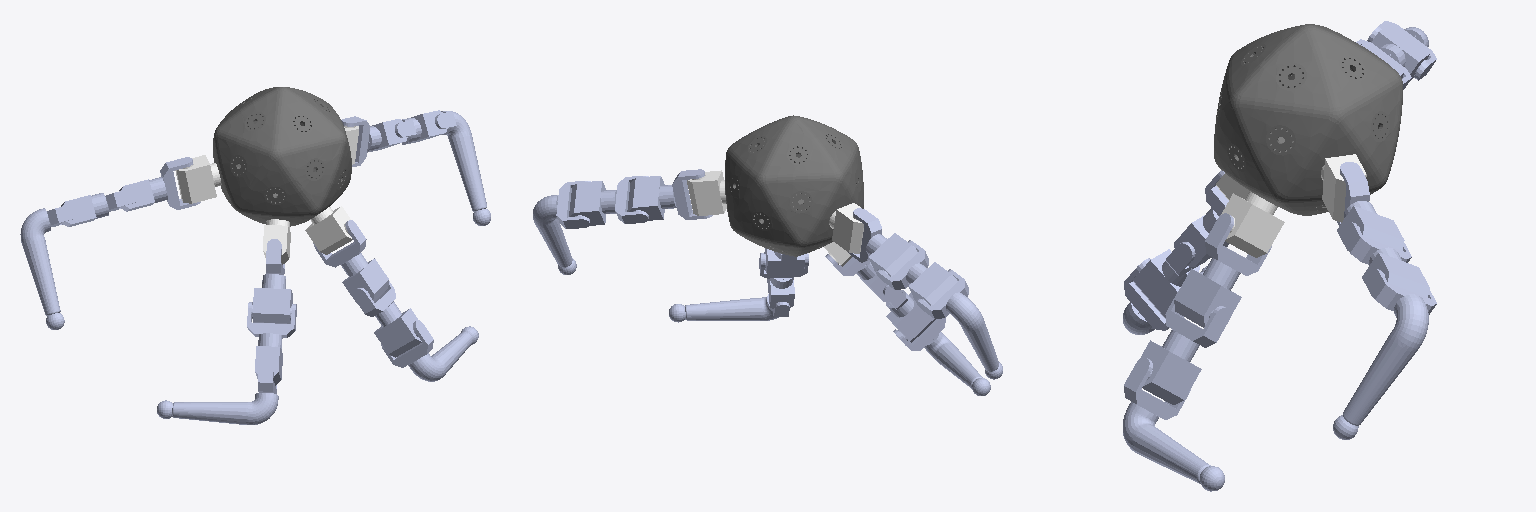
robot.urdf — mod_test:
<?xml version="1.0" encoding="utf-8"?>
<robot
  name="mod_test">
  <link
    name="base_link">
    <inertial>
      <origin
        xyz="-1.5226495220944E-06 1.5812928362389E-07 -5.05247252856584E-07"
        rpy="0 0 0" />
      <mass
        value="0.422806992949252" />
      <inertia
        ixx="0.00237499139253511"
        ixy="1.5717831530364E-08"
        ixz="1.49286265366169E-08"
        iyy="0.00237502154661776"
        iyz="-2.02154172619351E-08"
        izz="0.00237502595466009" />
    </inertial>
    <visual>
      <origin
        xyz="0 0 0"
        rpy="0 0 0" />
      <geometry>
        <mesh
          filename="package://meshes/base_link.STL" />
      </geometry>
      <material
        name="">
        <color
          rgba="0.498039215686275 0.498039215686275 0.498039215686275 1" />
      </material>
    </visual>
    <collision>
      <origin
        xyz="0 0 0"
        rpy="0 0 0" />
      <geometry>
        <mesh
          filename="package://meshes/base_link.STL" />
      </geometry>
    </collision>
  </link>
  <link
   name="150">
   <inertial>
      <origin
        xyz="0 0 0.028508"
        rpy="0 0 0" />
      <mass
        value="0.076173" />
      <inertia
        ixx="3.054E-05"
        ixy="-0.000000"
        ixz="-0.000000"
        iyy="2.1077E-05"
        iyz="-0.000000"
        izz="2.1165E-05" />
    </inertial>
    <visual>
      <origin
        xyz="0 0 0"
        rpy="0 0 0" />
      <geometry>
        <mesh
          filename="package://meshes/1.STL" />
      </geometry>
      <material
        name="">
        <color
          rgba="1 1 1 1" />
      </material>
    </visual>
    <collision>
      <origin
        xyz="0 0 0"
        rpy="0 0 0" />
      <geometry>
        <mesh
          filename="package://meshes/1.STL" />
      </geometry>
    </collision>
  </link>
  <joint
    name="body_150"
    type="fixed">
    <origin
        xyz="0.031905 -0.043913 -0.071046"
        rpy="2.489189 -0.000000 0.628319" />
    <parent
      link="base_link" />
    <child
      link="150" />
    <axis
      xyz="0 0 0" />
  </joint>
  <link
    name="151">
    <inertial>
      <origin
        xyz="0.060018 -1.4108E-06 1.4108E-06"
        rpy="0 0 0" />
    <mass
        value="0.10689" />
      <inertia
        ixx="3.2684e-05"
        ixy="-2.5662e-09"
        ixz="2.5662e-09"
        iyy="8.4132e-05"
        iyz="-2.1275e-13"
        izz="8.4583e-05" />
    </inertial>
    <visual>
      <origin
        xyz="0 0 0"
        rpy="0 0 0" />
      <geometry>
        <mesh
          filename="package://meshes/module9.STL" />
      </geometry>
      <material
        name="">
        <color
          rgba="0.79216 0.81961 0.93333 1" />
      </material>
    </visual>
    <collision>
      <origin
        xyz="0 0 0"
        rpy="0 0 0" />
      <geometry>
        <mesh
          filename="package://meshes/module9.STL" />
      </geometry>
    </collision>
  </link>
  <joint
    name="150_151"
    type="revolute">
    <origin
      xyz="0 0 0.04"
      rpy="-1.558 -1.5708 -0.012835" />
    <parent
      link="150" />
    <child
      link="151" />
    <axis
      xyz="0 0 1" />
    <limit
      lower="-6.28"
      upper="6.28"
      effort="10"
      velocity="100" />
  </joint>
  <link
    name="152">
    <inertial>
      <origin
        xyz="0.060018 -1.4108E-06 1.4108E-06"
        rpy="0 0 0" />
    <mass
        value="0.10689" />
      <inertia
        ixx="3.2684e-05"
        ixy="-2.5662e-09"
        ixz="2.5662e-09"
        iyy="8.4132e-05"
        iyz="-2.1275e-13"
        izz="8.4583e-05" />
    </inertial>
    <visual>
      <origin
        xyz="0 0 0"
        rpy="0 0 0" />
      <geometry>
        <mesh
          filename="package://meshes/module9.STL" />
      </geometry>
      <material
        name="">
        <color
          rgba="0.79216 0.81961 0.93333 1" />
      </material>
    </visual>
    <collision>
      <origin
        xyz="0 0 0"
        rpy="0 0 0" />
      <geometry>
        <mesh
          filename="package://meshes/module9.STL" />
      </geometry>
    </collision>
  </link>
  <joint
    name="151_152"
    type="revolute">
    <origin
      xyz="0.0816 0 0"
      rpy="4.712389 0 0" />
    <parent
      link="151" />
    <child
      link="152" />
    <axis
      xyz="0 0 1" />
    <limit
      lower="-6.28"
      upper="6.28"
      effort="10"
      velocity="100" />
  </joint>
  <link
    name="153">
    <inertial>
      <origin
        xyz="0.051733 -0.042281 -1.3878E-17"
        rpy="0 0 0" />
    <mass
        value="0.12059" />
      <inertia
        ixx="0.00025425"
        ixy="4.8319E-05"
        ixz="0"
        iyy="5.0194E-05"
        iyz="-3.3141E-21"
        izz="0.00027482" />
    </inertial>
    <visual>
      <origin
        xyz="0 0 0"
        rpy="0 0 0" />
      <geometry>
        <mesh
          filename="package://meshes/leg.STL" />
      </geometry>
      <material
        name="">
        <color
          rgba="0.79216 0.81961 0.93333 1" />
      </material>
    </visual>
    <collision>
      <origin
        xyz="0 0 0"
        rpy="0 0 0" />
      <geometry>
        <mesh
          filename="package://meshes/leg.STL" />
      </geometry>
    </collision>
  </link>
  <joint
    name="152_153"
    type="revolute">
    <origin
      xyz="0.0816 0 0"
      rpy="4.712389 0 0" />
    <parent
      link="152" />
    <child
      link="153" />
    <axis
      xyz="0 0 1" />
    <limit
      lower="-6.28"
      upper="6.28"
      effort="10"
      velocity="100" />
  </joint>
  <link
   name="110">
   <inertial>
      <origin
        xyz="0 0 0.028508"
        rpy="0 0 0" />
      <mass
        value="0.076173" />
      <inertia
        ixx="3.054E-05"
        ixy="-0.000000"
        ixz="-0.000000"
        iyy="2.1077E-05"
        iyz="-0.000000"
        izz="2.1165E-05" />
    </inertial>
    <visual>
      <origin
        xyz="0 0 0"
        rpy="0 0 0" />
      <geometry>
        <mesh
          filename="package://meshes/1.STL" />
      </geometry>
      <material
        name="">
        <color
          rgba="1 1 1 1" />
      </material>
    </visual>
    <collision>
      <origin
        xyz="0 0 0"
        rpy="0 0 0" />
      <geometry>
        <mesh
          filename="package://meshes/1.STL" />
      </geometry>
    </collision>
  </link>
  <joint
    name="body_110"
    type="fixed">
    <origin
        xyz="0.083523 0.027138 -0.016769"
        rpy="1.759466 -0.000000 1.884956" />
    <parent
      link="base_link" />
    <child
      link="110" />
    <axis
      xyz="0 0 0" />
  </joint>
  <link
    name="111">
    <inertial>
      <origin
        xyz="0.060018 -1.4108E-06 1.4108E-06"
        rpy="0 0 0" />
    <mass
        value="0.10689" />
      <inertia
        ixx="3.2684e-05"
        ixy="-2.5662e-09"
        ixz="2.5662e-09"
        iyy="8.6498e-05"
        iyz="4.0975e-06"
        izz="8.2217e-05" />
    </inertial>
    <visual>
      <origin
        xyz="0 0 0"
        rpy="0 0 0" />
      <geometry>
        <mesh
          filename="package://meshes/module2.STL" />
      </geometry>
      <material
        name="">
        <color
          rgba="0.79216 0.81961 0.93333 1" />
      </material>
    </visual>
    <collision>
      <origin
        xyz="0 0 0"
        rpy="0 0 0" />
      <geometry>
        <mesh
          filename="package://meshes/module2.STL" />
      </geometry>
    </collision>
  </link>
  <joint
    name="110_111"
    type="revolute">
    <origin
      xyz="0 0 0.04"
      rpy="-1.558 -1.5708 -0.012835" />
    <parent
      link="110" />
    <child
      link="111" />
    <axis
      xyz="0 0 1" />
    <limit
      lower="-6.28"
      upper="6.28"
      effort="10"
      velocity="100" />
  </joint>
  <link
    name="112">
    <inertial>
      <origin
        xyz="0.060018 -1.4108E-06 1.4108E-06"
        rpy="0 0 0" />
    <mass
        value="0.10689" />
      <inertia
        ixx="3.2684e-05"
        ixy="-2.5662e-09"
        ixz="2.5662e-09"
        iyy="9.3595e-05"
        iyz="-2.1275e-13"
        izz="7.512e-05" />
    </inertial>
    <visual>
      <origin
        xyz="0 0 0"
        rpy="0 0 0" />
      <geometry>
        <mesh
          filename="package://meshes/module0.STL" />
      </geometry>
      <material
        name="">
        <color
          rgba="0.79216 0.81961 0.93333 1" />
      </material>
    </visual>
    <collision>
      <origin
        xyz="0 0 0"
        rpy="0 0 0" />
      <geometry>
        <mesh
          filename="package://meshes/module0.STL" />
      </geometry>
    </collision>
  </link>
  <joint
    name="111_112"
    type="revolute">
    <origin
      xyz="0.0816 0 0"
      rpy="1.047198 0 0" />
    <parent
      link="111" />
    <child
      link="112" />
    <axis
      xyz="0 0 1" />
    <limit
      lower="-6.28"
      upper="6.28"
      effort="10"
      velocity="100" />
  </joint>
  <link
    name="113">
    <inertial>
      <origin
        xyz="0.051733 -0.042281 -1.3878E-17"
        rpy="0 0 0" />
    <mass
        value="0.12059" />
      <inertia
        ixx="0.00025425"
        ixy="4.8319E-05"
        ixz="0"
        iyy="5.0194E-05"
        iyz="-3.3141E-21"
        izz="0.00027482" />
    </inertial>
    <visual>
      <origin
        xyz="0 0 0"
        rpy="0 0 0" />
      <geometry>
        <mesh
          filename="package://meshes/leg.STL" />
      </geometry>
      <material
        name="">
        <color
          rgba="0.79216 0.81961 0.93333 1" />
      </material>
    </visual>
    <collision>
      <origin
        xyz="0 0 0"
        rpy="0 0 0" />
      <geometry>
        <mesh
          filename="package://meshes/leg.STL" />
      </geometry>
    </collision>
  </link>
  <joint
    name="112_113"
    type="revolute">
    <origin
      xyz="0.0816 0 0"
      rpy="0.000000 0 0" />
    <parent
      link="112" />
    <child
      link="113" />
    <axis
      xyz="0 0 1" />
    <limit
      lower="-6.28"
      upper="6.28"
      effort="10"
      velocity="100" />
  </joint>
  <link
   name="130">
   <inertial>
      <origin
        xyz="0 0 0.028508"
        rpy="0 0 0" />
      <mass
        value="0.076173" />
      <inertia
        ixx="3.054E-05"
        ixy="-0.000000"
        ixz="-0.000000"
        iyy="2.1077E-05"
        iyz="0.000000"
        izz="2.1165E-05" />
    </inertial>
    <visual>
      <origin
        xyz="0 0 0"
        rpy="0 0 0" />
      <geometry>
        <mesh
          filename="package://meshes/1.STL" />
      </geometry>
      <material
        name="">
        <color
          rgba="1 1 1 1" />
      </material>
    </visual>
    <collision>
      <origin
        xyz="0 0 0"
        rpy="0 0 0" />
      <geometry>
        <mesh
          filename="package://meshes/1.STL" />
      </geometry>
    </collision>
  </link>
  <joint
    name="body_130"
    type="fixed">
    <origin
        xyz="-0.083523 0.027138 -0.016769"
        rpy="-1.759466 -0.000000 1.256637" />
    <parent
      link="base_link" />
    <child
      link="130" />
    <axis
      xyz="0 0 0" />
  </joint>
  <link
    name="131">
    <inertial>
      <origin
        xyz="0.060018 -1.4108E-06 1.4108E-06"
        rpy="0 0 0" />
    <mass
        value="0.10689" />
      <inertia
        ixx="3.2684e-05"
        ixy="-2.5662e-09"
        ixz="2.5662e-09"
        iyy="8.6498e-05"
        iyz="-4.0975e-06"
        izz="8.2217e-05" />
    </inertial>
    <visual>
      <origin
        xyz="0 0 0"
        rpy="0 0 0" />
      <geometry>
        <mesh
          filename="package://meshes/module10.STL" />
      </geometry>
      <material
        name="">
        <color
          rgba="0.79216 0.81961 0.93333 1" />
      </material>
    </visual>
    <collision>
      <origin
        xyz="0 0 0"
        rpy="0 0 0" />
      <geometry>
        <mesh
          filename="package://meshes/module10.STL" />
      </geometry>
    </collision>
  </link>
  <joint
    name="130_131"
    type="revolute">
    <origin
      xyz="0 0 0.04"
      rpy="-1.558 -1.5708 -0.012835" />
    <parent
      link="130" />
    <child
      link="131" />
    <axis
      xyz="0 0 1" />
    <limit
      lower="-6.28"
      upper="6.28"
      effort="10"
      velocity="100" />
  </joint>
  <link
    name="132">
    <inertial>
      <origin
        xyz="0.060018 -1.4108E-06 1.4108E-06"
        rpy="0 0 0" />
    <mass
        value="0.10689" />
      <inertia
        ixx="3.2684e-05"
        ixy="-2.5662e-09"
        ixz="2.5662e-09"
        iyy="9.3595e-05"
        iyz="-2.1275e-13"
        izz="7.512e-05" />
    </inertial>
    <visual>
      <origin
        xyz="0 0 0"
        rpy="0 0 0" />
      <geometry>
        <mesh
          filename="package://meshes/module0.STL" />
      </geometry>
      <material
        name="">
        <color
          rgba="0.79216 0.81961 0.93333 1" />
      </material>
    </visual>
    <collision>
      <origin
        xyz="0 0 0"
        rpy="0 0 0" />
      <geometry>
        <mesh
          filename="package://meshes/module0.STL" />
      </geometry>
    </collision>
  </link>
  <joint
    name="131_132"
    type="revolute">
    <origin
      xyz="0.0816 0 0"
      rpy="5.235988 0 0" />
    <parent
      link="131" />
    <child
      link="132" />
    <axis
      xyz="0 0 1" />
    <limit
      lower="-6.28"
      upper="6.28"
      effort="10"
      velocity="100" />
  </joint>
  <link
    name="133">
    <inertial>
      <origin
        xyz="0.051733 -0.042281 -1.3878E-17"
        rpy="0 0 0" />
    <mass
        value="0.12059" />
      <inertia
        ixx="0.00025425"
        ixy="4.8319E-05"
        ixz="0"
        iyy="5.0194E-05"
        iyz="-3.3141E-21"
        izz="0.00027482" />
    </inertial>
    <visual>
      <origin
        xyz="0 0 0"
        rpy="0 0 0" />
      <geometry>
        <mesh
          filename="package://meshes/leg.STL" />
      </geometry>
      <material
        name="">
        <color
          rgba="0.79216 0.81961 0.93333 1" />
      </material>
    </visual>
    <collision>
      <origin
        xyz="0 0 0"
        rpy="0 0 0" />
      <geometry>
        <mesh
          filename="package://meshes/leg.STL" />
      </geometry>
    </collision>
  </link>
  <joint
    name="132_133"
    type="revolute">
    <origin
      xyz="0.0816 0 0"
      rpy="0.000000 0 0" />
    <parent
      link="132" />
    <child
      link="133" />
    <axis
      xyz="0 0 1" />
    <limit
      lower="-6.28"
      upper="6.28"
      effort="10"
      velocity="100" />
  </joint>
  <link
   name="190">
   <inertial>
      <origin
        xyz="0 0 0.028508"
        rpy="0 0 0" />
      <mass
        value="0.076173" />
      <inertia
        ixx="3.054E-05"
        ixy="-0.000000"
        ixz="-0.000000"
        iyy="2.1077E-05"
        iyz="0.000000"
        izz="2.1165E-05" />
    </inertial>
    <visual>
      <origin
        xyz="0 0 0"
        rpy="0 0 0" />
      <geometry>
        <mesh
          filename="package://meshes/1.STL" />
      </geometry>
      <material
        name="">
        <color
          rgba="1 1 1 1" />
      </material>
    </visual>
    <collision>
      <origin
        xyz="0 0 0"
        rpy="0 0 0" />
      <geometry>
        <mesh
          filename="package://meshes/1.STL" />
      </geometry>
    </collision>
  </link>
  <joint
    name="body_190"
    type="fixed">
    <origin
        xyz="-0.031905 -0.043913 -0.071046"
        rpy="-2.489189 -0.000000 2.513274" />
    <parent
      link="base_link" />
    <child
      link="190" />
    <axis
      xyz="0 0 0" />
  </joint>
  <link
    name="191">
    <inertial>
      <origin
        xyz="0.060018 -1.4108E-06 1.4108E-06"
        rpy="0 0 0" />
    <mass
        value="0.10689" />
      <inertia
        ixx="3.2684e-05"
        ixy="-2.5662e-09"
        ixz="2.5662e-09"
        iyy="8.4132e-05"
        iyz="-2.1275e-13"
        izz="8.4583e-05" />
    </inertial>
    <visual>
      <origin
        xyz="0 0 0"
        rpy="0 0 0" />
      <geometry>
        <mesh
          filename="package://meshes/module3.STL" />
      </geometry>
      <material
        name="">
        <color
          rgba="0.79216 0.81961 0.93333 1" />
      </material>
    </visual>
    <collision>
      <origin
        xyz="0 0 0"
        rpy="0 0 0" />
      <geometry>
        <mesh
          filename="package://meshes/module3.STL" />
      </geometry>
    </collision>
  </link>
  <joint
    name="190_191"
    type="revolute">
    <origin
      xyz="0 0 0.04"
      rpy="-1.558 -1.5708 -0.012835" />
    <parent
      link="190" />
    <child
      link="191" />
    <axis
      xyz="0 0 1" />
    <limit
      lower="-6.28"
      upper="6.28"
      effort="10"
      velocity="100" />
  </joint>
  <link
    name="192">
    <inertial>
      <origin
        xyz="0.060018 -1.4108E-06 1.4108E-06"
        rpy="0 0 0" />
    <mass
        value="0.10689" />
      <inertia
        ixx="3.2684e-05"
        ixy="-2.5662e-09"
        ixz="2.5662e-09"
        iyy="8.4132e-05"
        iyz="-2.1275e-13"
        izz="8.4583e-05" />
    </inertial>
    <visual>
      <origin
        xyz="0 0 0"
        rpy="0 0 0" />
      <geometry>
        <mesh
          filename="package://meshes/module3.STL" />
      </geometry>
      <material
        name="">
        <color
          rgba="0.79216 0.81961 0.93333 1" />
      </material>
    </visual>
    <collision>
      <origin
        xyz="0 0 0"
        rpy="0 0 0" />
      <geometry>
        <mesh
          filename="package://meshes/module3.STL" />
      </geometry>
    </collision>
  </link>
  <joint
    name="191_192"
    type="revolute">
    <origin
      xyz="0.0816 0 0"
      rpy="1.570796 0 0" />
    <parent
      link="191" />
    <child
      link="192" />
    <axis
      xyz="0 0 1" />
    <limit
      lower="-6.28"
      upper="6.28"
      effort="10"
      velocity="100" />
  </joint>
  <link
    name="193">
    <inertial>
      <origin
        xyz="0.051733 -0.042281 -1.3878E-17"
        rpy="0 0 0" />
    <mass
        value="0.12059" />
      <inertia
        ixx="0.00025425"
        ixy="4.8319E-05"
        ixz="0"
        iyy="5.0194E-05"
        iyz="-3.3141E-21"
        izz="0.00027482" />
    </inertial>
    <visual>
      <origin
        xyz="0 0 0"
        rpy="0 0 0" />
      <geometry>
        <mesh
          filename="package://meshes/leg.STL" />
      </geometry>
      <material
        name="">
        <color
          rgba="0.79216 0.81961 0.93333 1" />
      </material>
    </visual>
    <collision>
      <origin
        xyz="0 0 0"
        rpy="0 0 0" />
      <geometry>
        <mesh
          filename="package://meshes/leg.STL" />
      </geometry>
    </collision>
  </link>
  <joint
    name="192_193"
    type="revolute">
    <origin
      xyz="0.0816 0 0"
      rpy="1.570796 0 0" />
    <parent
      link="192" />
    <child
      link="193" />
    <axis
      xyz="0 0 1" />
    <limit
      lower="-6.28"
      upper="6.28"
      effort="10"
      velocity="100" />
  </joint>
  <link
    name = "ball_1">
    <inertial>
    <origin
        xyz="0 0 0"
        rpy="0 0 0" />
    <mass
        value="0" />
      <inertia
        ixx="0"
        ixy="0"
        ixz="0"
        iyy="0"
        iyz="0"
        izz="0" />
    </inertial>    <visual>
      <origin
        xyz="0 0 0"
        rpy="0 0 0" />
     <geometry>
        <sphere radius = "0.01"/>
      </geometry>
      <material
        name="green">
        <color
          rgba="0.22 1 0.4 1" />
      </material>
    </visual>
  </link>
  <joint
  name="153_ball1"
  type="fixed">
    <origin
      xyz="0.0612 -0.13431 0"
      rpy="0 0 0" />
    <parent
      link="153" />
    <child
      link="ball_1" />
    <axis
      xyz="0 0 0" />
  </joint>
  <link
    name = "ball_2">
    <inertial>
    <origin
        xyz="0 0 0"
        rpy="0 0 0" />
    <mass
        value="0" />
      <inertia
        ixx="0"
        ixy="0"
        ixz="0"
        iyy="0"
        iyz="0"
        izz="0" />
    </inertial>    <visual>
      <origin
        xyz="0 0 0"
        rpy="0 0 0" />
      <geometry>
        <sphere radius = "0.01"/>
      </geometry>
      <material
        name="blue">
        <color
          rgba="0.16 0.52 0.8 1" />
      </material>
    </visual>
  </link>
  <joint
  name="113_ball2"
  type="fixed">
    <origin
      xyz="0.0612 -0.13431 0"
      rpy="0 0 0" />
    <parent
      link="113" />
    <child
      link="ball_2" />
    <axis
      xyz="0 0 0" />
  </joint>
  <link
    name = "ball_3">
    <inertial>
    <origin
        xyz="0 0 0"
        rpy="0 0 0" />
    <mass
        value="0" />
      <inertia
        ixx="0"
        ixy="0"
        ixz="0"
        iyy="0"
        iyz="0"
        izz="0" />
    </inertial>    <visual>
      <origin
        xyz="0 0 0"
        rpy="0 0 0" />
     <geometry>
        <sphere radius = "0.01"/>
      </geometry>
      <material
        name="blue">
        <color
          rgba="0.16 0.52 0.8 1" />
      </material>
    </visual>
  </link>
  <joint
  name="133_ball3"
  type="fixed">
    <origin
      xyz="0.0612 -0.13431 0"
      rpy="0 0 0" />
    <parent
      link="133" />
    <child
      link="ball_3" />
    <axis
      xyz="0 0 0" />
  </joint>
  <link
    name = "ball_4">
    <inertial>
    <origin
        xyz="0 0 0"
        rpy="0 0 0" />
    <mass
        value="0" />
      <inertia
        ixx="0"
        ixy="0"
        ixz="0"
        iyy="0"
        iyz="0"
        izz="0" />
    </inertial>    <visual>
      <origin
        xyz="0 0 0"
        rpy="0 0 0" />
      <geometry>
        <sphere radius = "0.01"/>
      </geometry>
      <material
        name="yellow">
        <color
          rgba="1 1 0 1" />
      </material>
    </visual>
  </link>
  <joint
  name="193_ball4"
  type="fixed">
    <origin
      xyz="0.0612 -0.13431 0"
      rpy="0 0 0" />
    <parent
      link="193" />
    <child
      link="ball_4" />
    <axis
      xyz="0 0 0" />
  </joint>
</robot>

--- Facts derived from the render (not from the file) ---
3 views of the same robot in one strip: view 1: azimuth 30°, elevation 25°; view 2: azimuth 150°, elevation 25°; view 3: azimuth 270°, elevation 25° (orthographic).
Robot: mod_test — 21 links, 20 joints (12 revolute, 8 fixed); root link base_link; default pose: all joints at 0.
Links seen in each view (by area): view 1: base_link, 193, 133, 113, 153, 152, 191, 151, 131, 192, 130, 150 (+4 smaller); view 2: base_link, 133, 111, 113, 112, 153, 132, 193, 131, 192, 110, 130 (+3 smaller); view 3: base_link, 113, 153, 152, 151, 112, 150, 111, 192, 132, 193, 191 (+2 smaller).
Boxes of the visible links, x1,y1,x2,y2 form: base_link: (213, 87, 351, 226); 193: (157, 357, 278, 424); 133: (20, 204, 81, 329); 113: (435, 111, 490, 225); 153: (381, 320, 478, 381); 152: (353, 281, 421, 357); 191: (251, 239, 292, 323); 151: (313, 220, 388, 303); 131: (119, 157, 200, 211); 192: (247, 302, 296, 385); 130: (175, 155, 221, 203); 150: (305, 206, 352, 254); base_link: (725, 115, 863, 256); 133: (916, 269, 1002, 379); 111: (627, 169, 712, 220); 113: (533, 181, 590, 274); 112: (569, 176, 648, 225); 153: (669, 294, 789, 322); 132: (876, 240, 957, 305); 193: (893, 318, 990, 395); 131: (848, 208, 917, 276); 192: (883, 285, 935, 342); 110: (687, 170, 726, 215); 130: (829, 203, 863, 253); base_link: (1214, 24, 1402, 215); 113: (1333, 268, 1436, 439); 153: (1123, 357, 1224, 491); 152: (1140, 292, 1230, 404); 151: (1174, 213, 1271, 327); 112: (1342, 222, 1429, 297); 150: (1221, 191, 1284, 257); 111: (1337, 162, 1404, 250); 192: (1133, 242, 1205, 318); 132: (1356, 24, 1429, 89); 193: (1123, 258, 1206, 334); 191: (1174, 170, 1228, 266).
Size in the robot's own frame: 0.693 by 0.3104 by 0.3994 metres.
17 mesh visuals loaded from 8 distinct referenced files (8 binary STL).